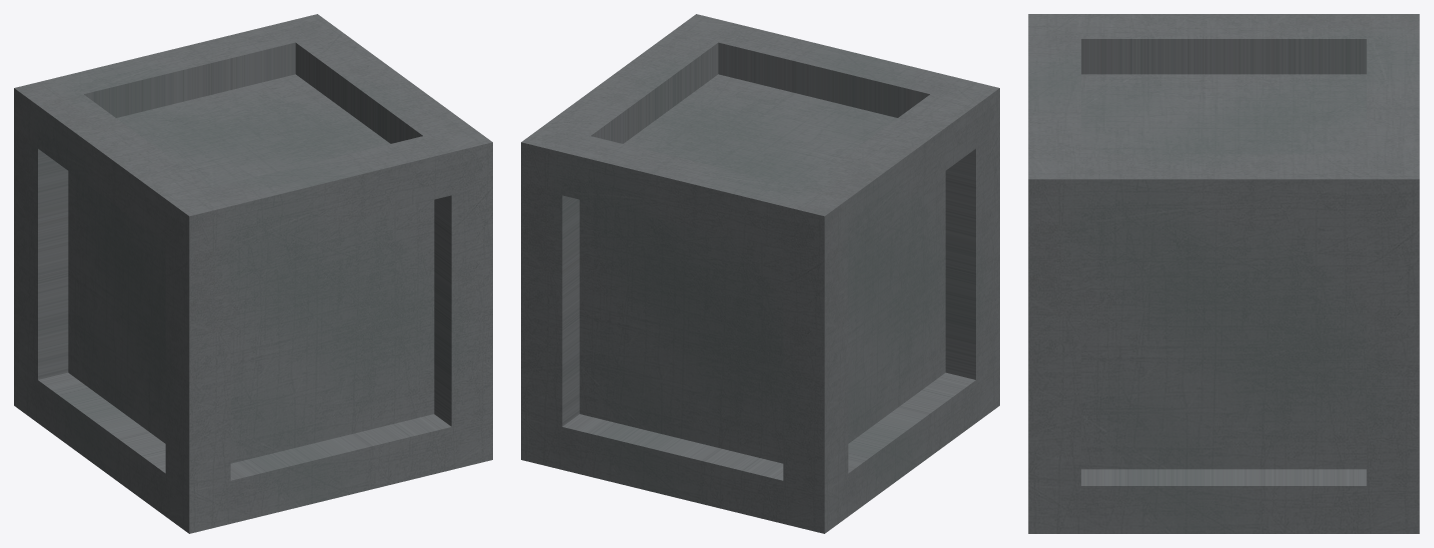
3 views of the same model, side by side, from view 1: azimuth 30°, elevation 25°; view 2: azimuth 150°, elevation 25°; view 3: azimuth 270°, elevation 25° (orthographic). The views are drawn at different scales.
Visible parts, largest first — view 1: Box017; view 2: Box017; view 3: Box017.
Boxes of the visible parts, x1=… form: Box017: x1=14, y1=14, x2=492, y2=533; Box017: x1=521, y1=14, x2=999, y2=533; Box017: x1=1028, y1=14, x2=1419, y2=533.
Size of the model in its own units: 1 by 1 by 1.
Materials: 1 (1 with a texture image).
